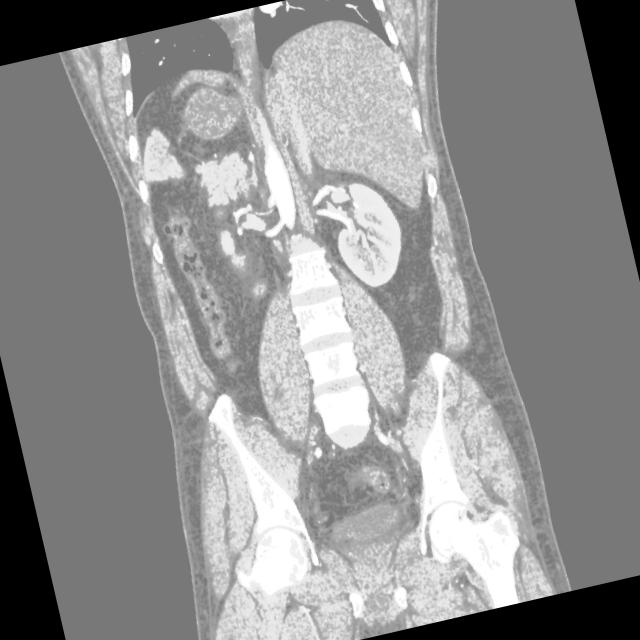NORMAL: (24, 0, 608, 636)
